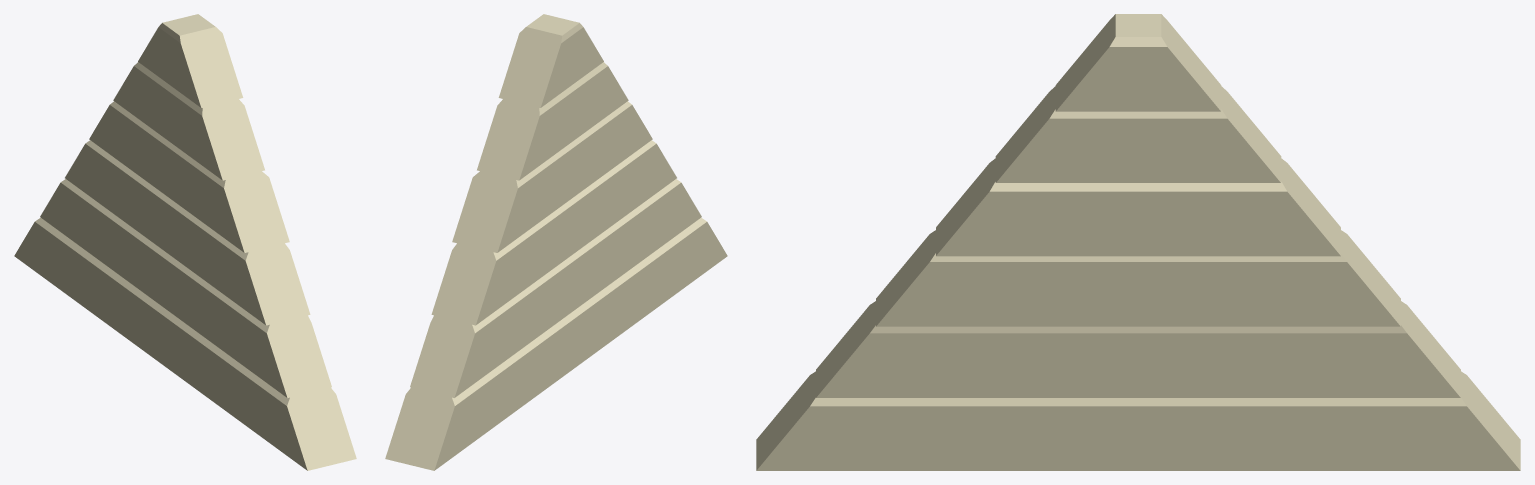
File: TopWall01_house2.obj
3 views of the same model, side by side, from view 1: azimuth 30°, elevation 25°; view 2: azimuth 150°, elevation 25°; view 3: azimuth 270°, elevation 25° (orthographic). The views are drawn at different scales.
Parts seen in each view (by area): view 1: TopWall01_house02_Cube.001; view 2: TopWall01_house02_Cube.001; view 3: TopWall01_house02_Cube.001.
Part boxes in pixels (left/top/right/bottom): TopWall01_house02_Cube.001: left=14, top=14, right=356, bottom=470; TopWall01_house02_Cube.001: left=385, top=14, right=727, bottom=470; TopWall01_house02_Cube.001: left=756, top=14, right=1520, bottom=470.
Bounding box in the file's own units: 0.4844 × 3 × 4.81.
